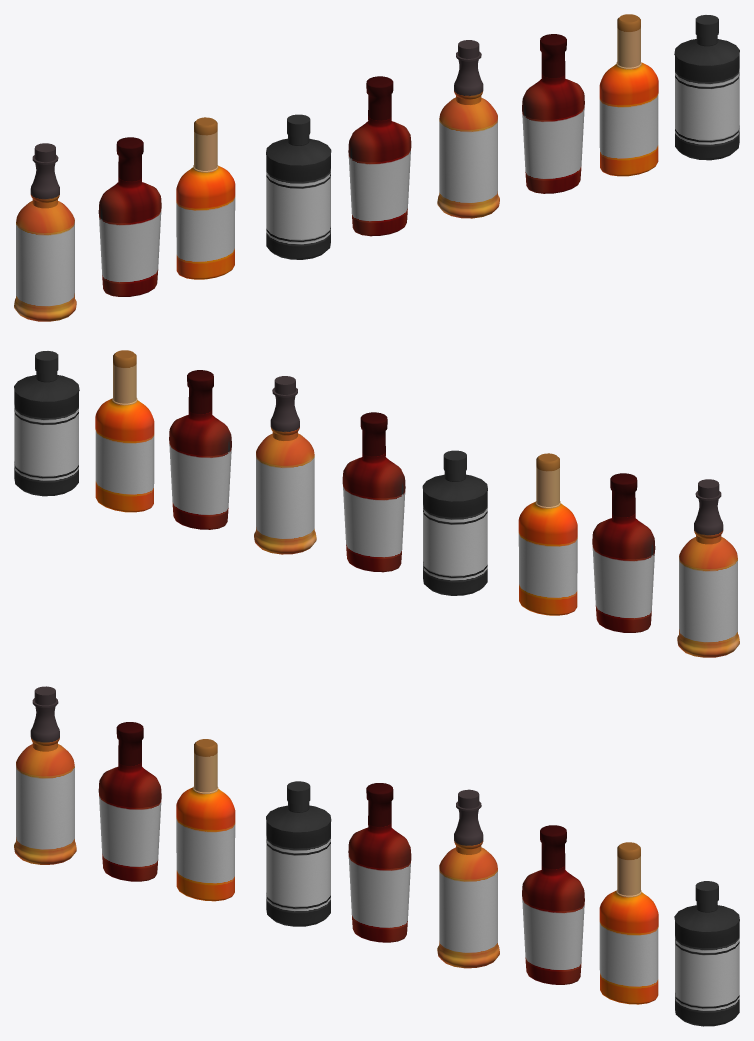
The model's file is Bottles01_5.FBX.
3 views of the same model, one above another, from view 1: azimuth 30°, elevation 25°; view 2: azimuth 150°, elevation 25°; view 3: azimuth 330°, elevation 25° (orthographic).
Parts seen in each view (by area): view 1: Bottles01_5; view 2: Bottles01_5; view 3: Bottles01_5.
Part boxes in pixels (x1,y1,x2,y2): Bottles01_5: (14, 14, 739, 321); Bottles01_5: (14, 350, 739, 657); Bottles01_5: (14, 686, 739, 1026).
Size of the model in its own units: 117 by 25.19 by 9.31.
